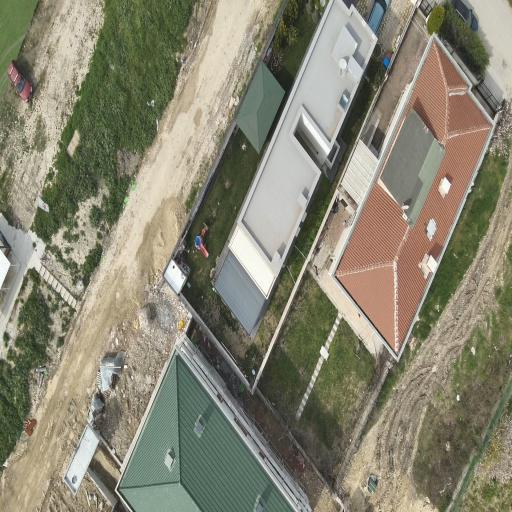car: (7, 60, 33, 102), (452, 0, 478, 31), (367, 0, 390, 35)
